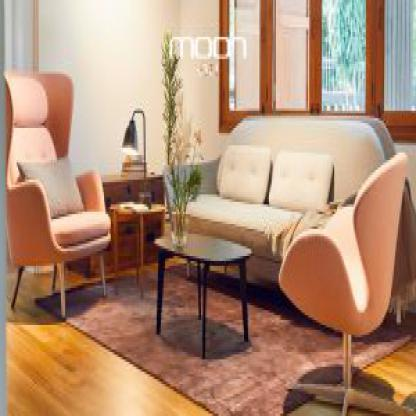chair: (284, 144, 414, 416), (0, 48, 117, 325)
light: (123, 99, 149, 217)
sofa: (156, 110, 406, 303)
table: (150, 231, 254, 365)
